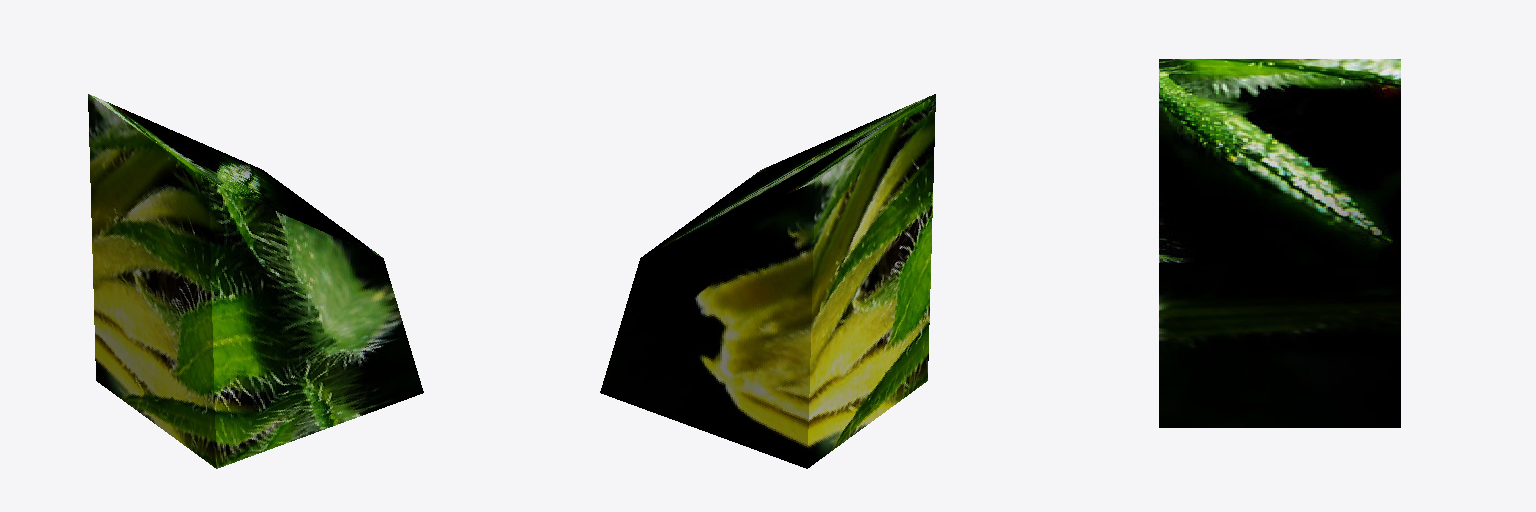
3 renders of one model, left to right at view 1: azimuth 30°, elevation 25°; view 2: azimuth 150°, elevation 25°; view 3: azimuth 270°, elevation 25°, orthographic.
Visible parts, largest first — view 1: Cube_Cube_Material; view 2: Cube_Cube_Material; view 3: Cube_Cube_Material.
Part boxes in pixels (left/top/right/bottom): Cube_Cube_Material: left=88, top=94, right=423, bottom=468; Cube_Cube_Material: left=600, top=94, right=935, bottom=468; Cube_Cube_Material: left=1159, top=59, right=1400, bottom=427.
Bounding box in the file's own units: 12.99 × 16.66 × 12.59.
1 materials, 1 textured.